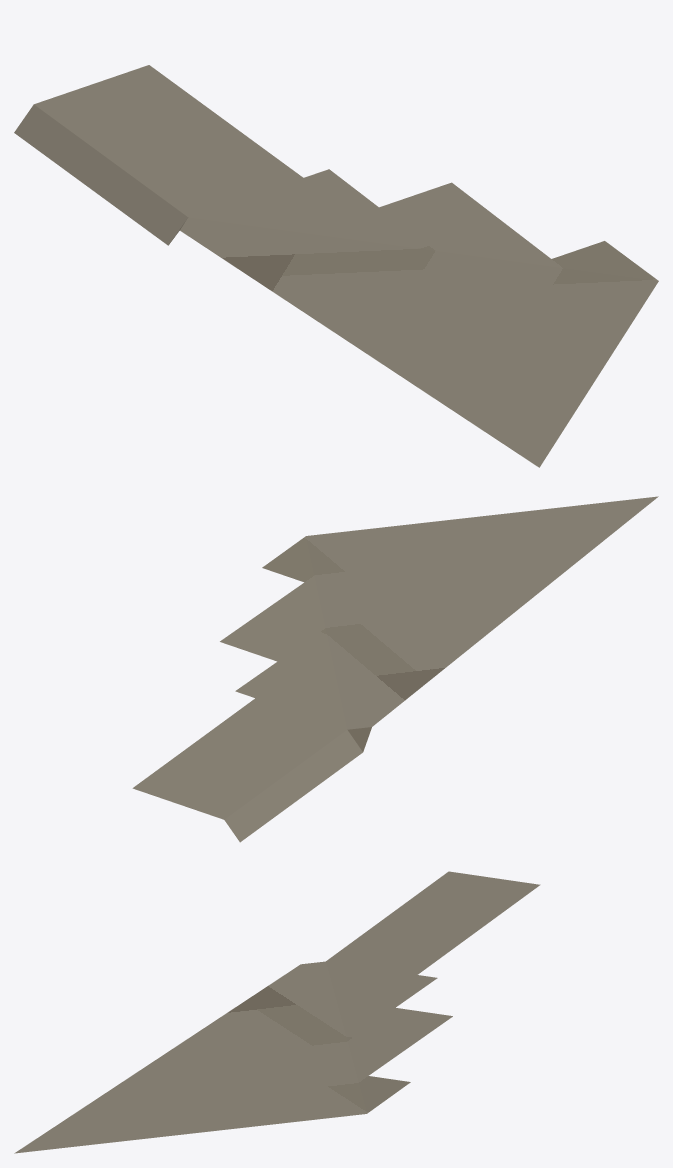
3 views of the same model, one above another, from view 1: azimuth 30°, elevation 25°; view 2: azimuth 150°, elevation 25°; view 3: azimuth 330°, elevation 25° (orthographic). The views are drawn at different scales.
Bounding box in the file's own units: 0.2236 × 0.0373 × 0.7178.
Materials: 1 (1 with a texture image).
